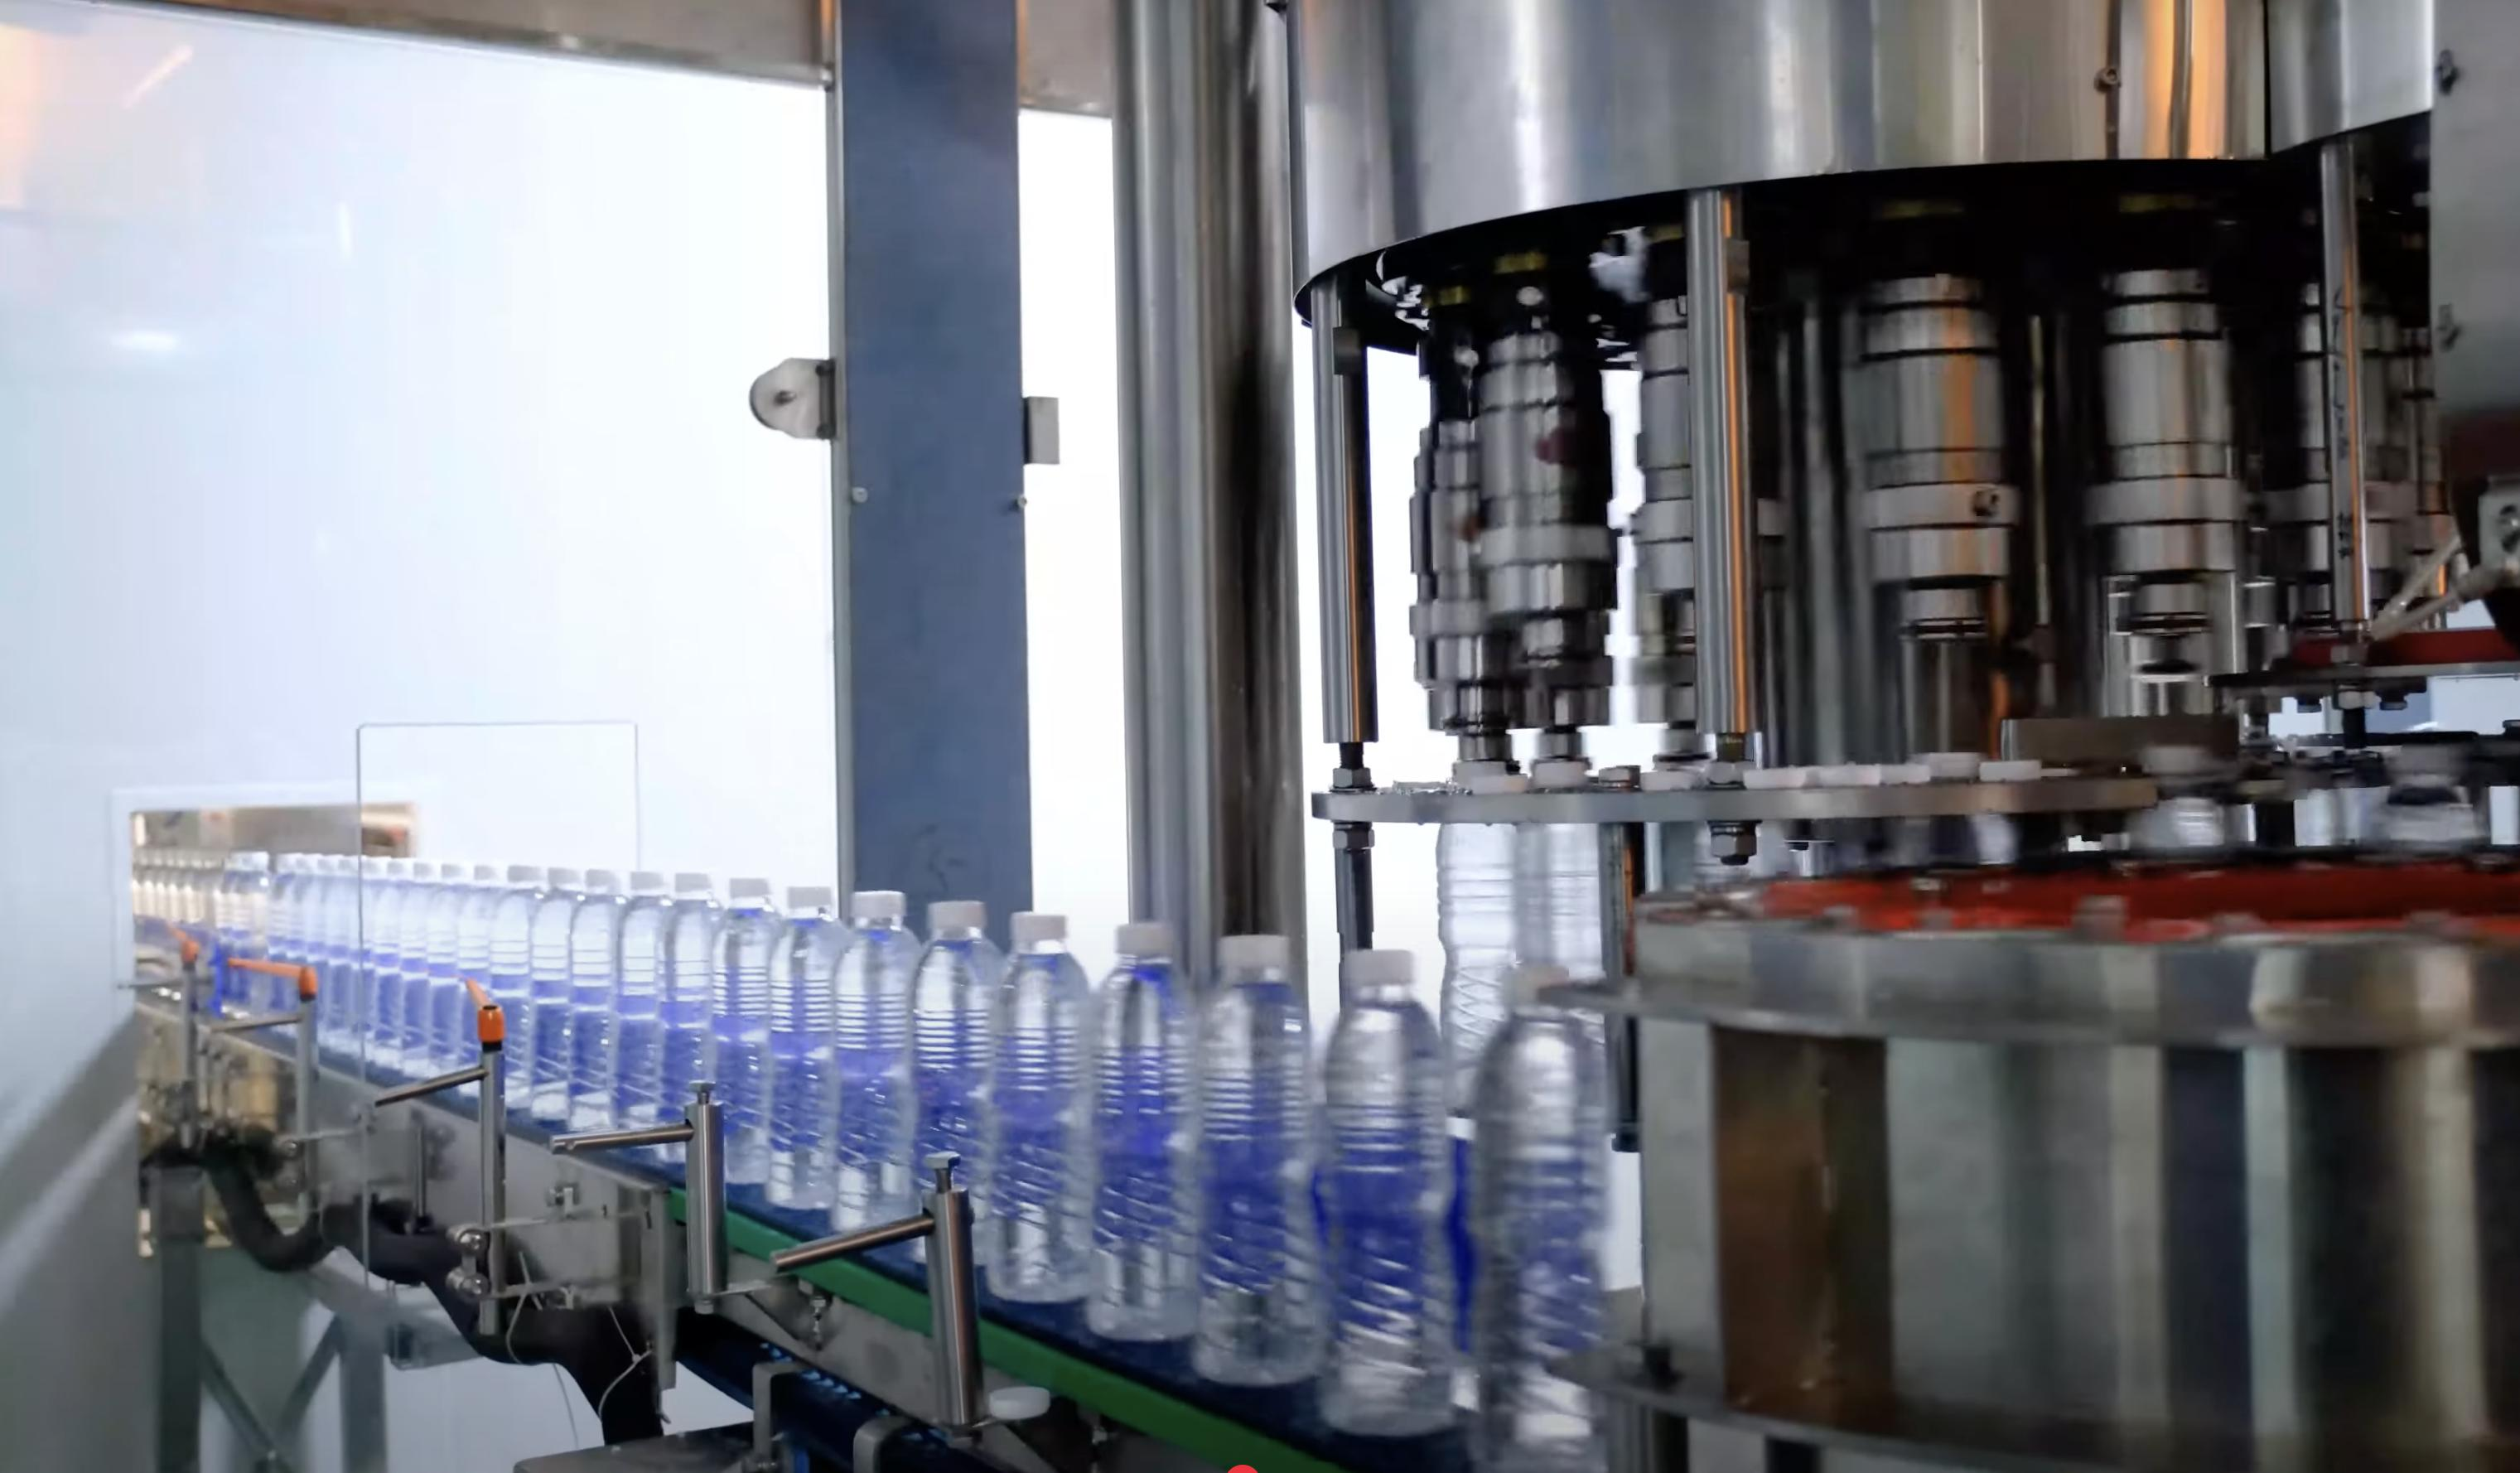bottle: (1313, 935, 1456, 1427), (1465, 973, 1600, 1473), (1192, 929, 1311, 1380), (1087, 919, 1190, 1347), (995, 914, 1087, 1308), (910, 903, 997, 1259), (832, 889, 904, 1233), (556, 870, 627, 1133), (515, 868, 584, 1129), (711, 879, 769, 1185), (773, 884, 825, 1206), (657, 872, 720, 1122), (610, 872, 671, 1128), (389, 859, 457, 1078), (484, 865, 543, 1107), (363, 857, 414, 993), (426, 861, 470, 986), (456, 865, 501, 984), (421, 1003, 459, 1073), (365, 993, 398, 1059), (450, 989, 480, 1063)
